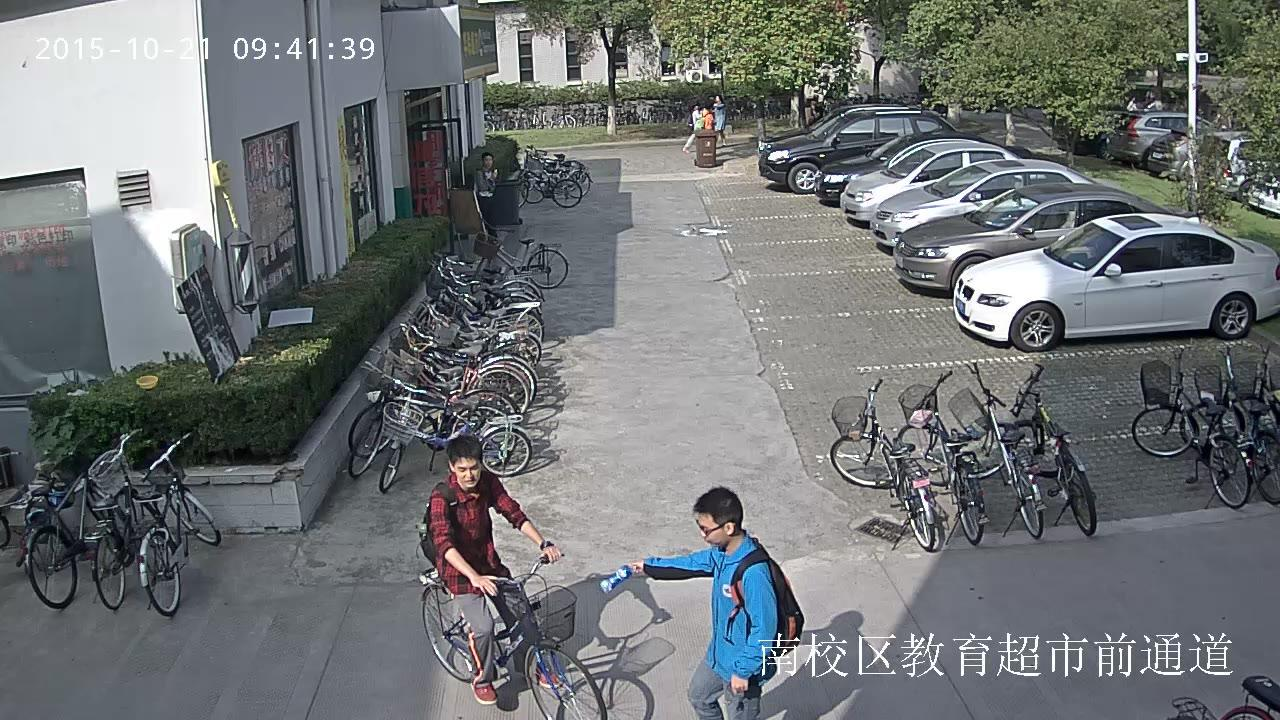person: (417, 435, 607, 720), (600, 485, 806, 720), (632, 485, 805, 720), (417, 435, 561, 704), (473, 151, 500, 239), (681, 107, 704, 154), (712, 93, 729, 147), (702, 109, 716, 129)
